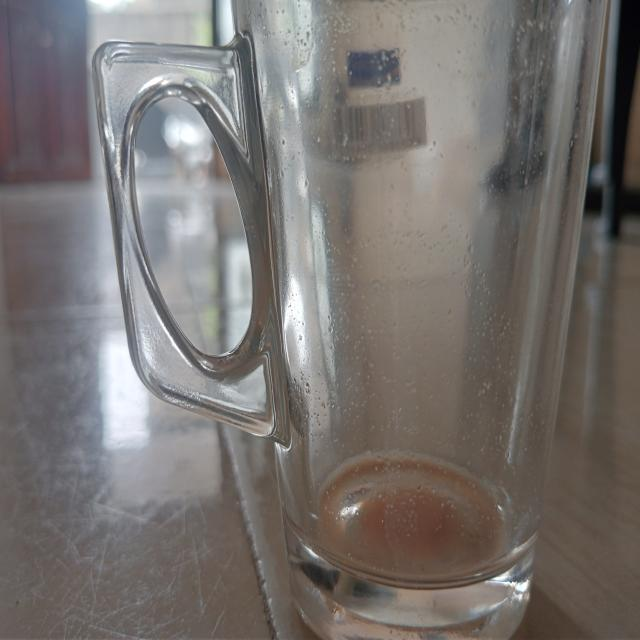glass-VX4N: (93, 0, 612, 640)
